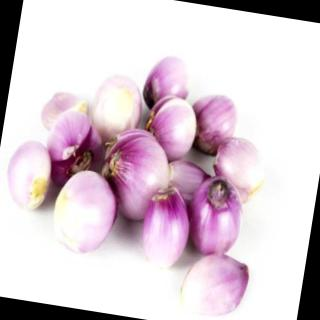Bawang Merah: (46, 164, 124, 261), (171, 247, 254, 320), (134, 183, 197, 273)
